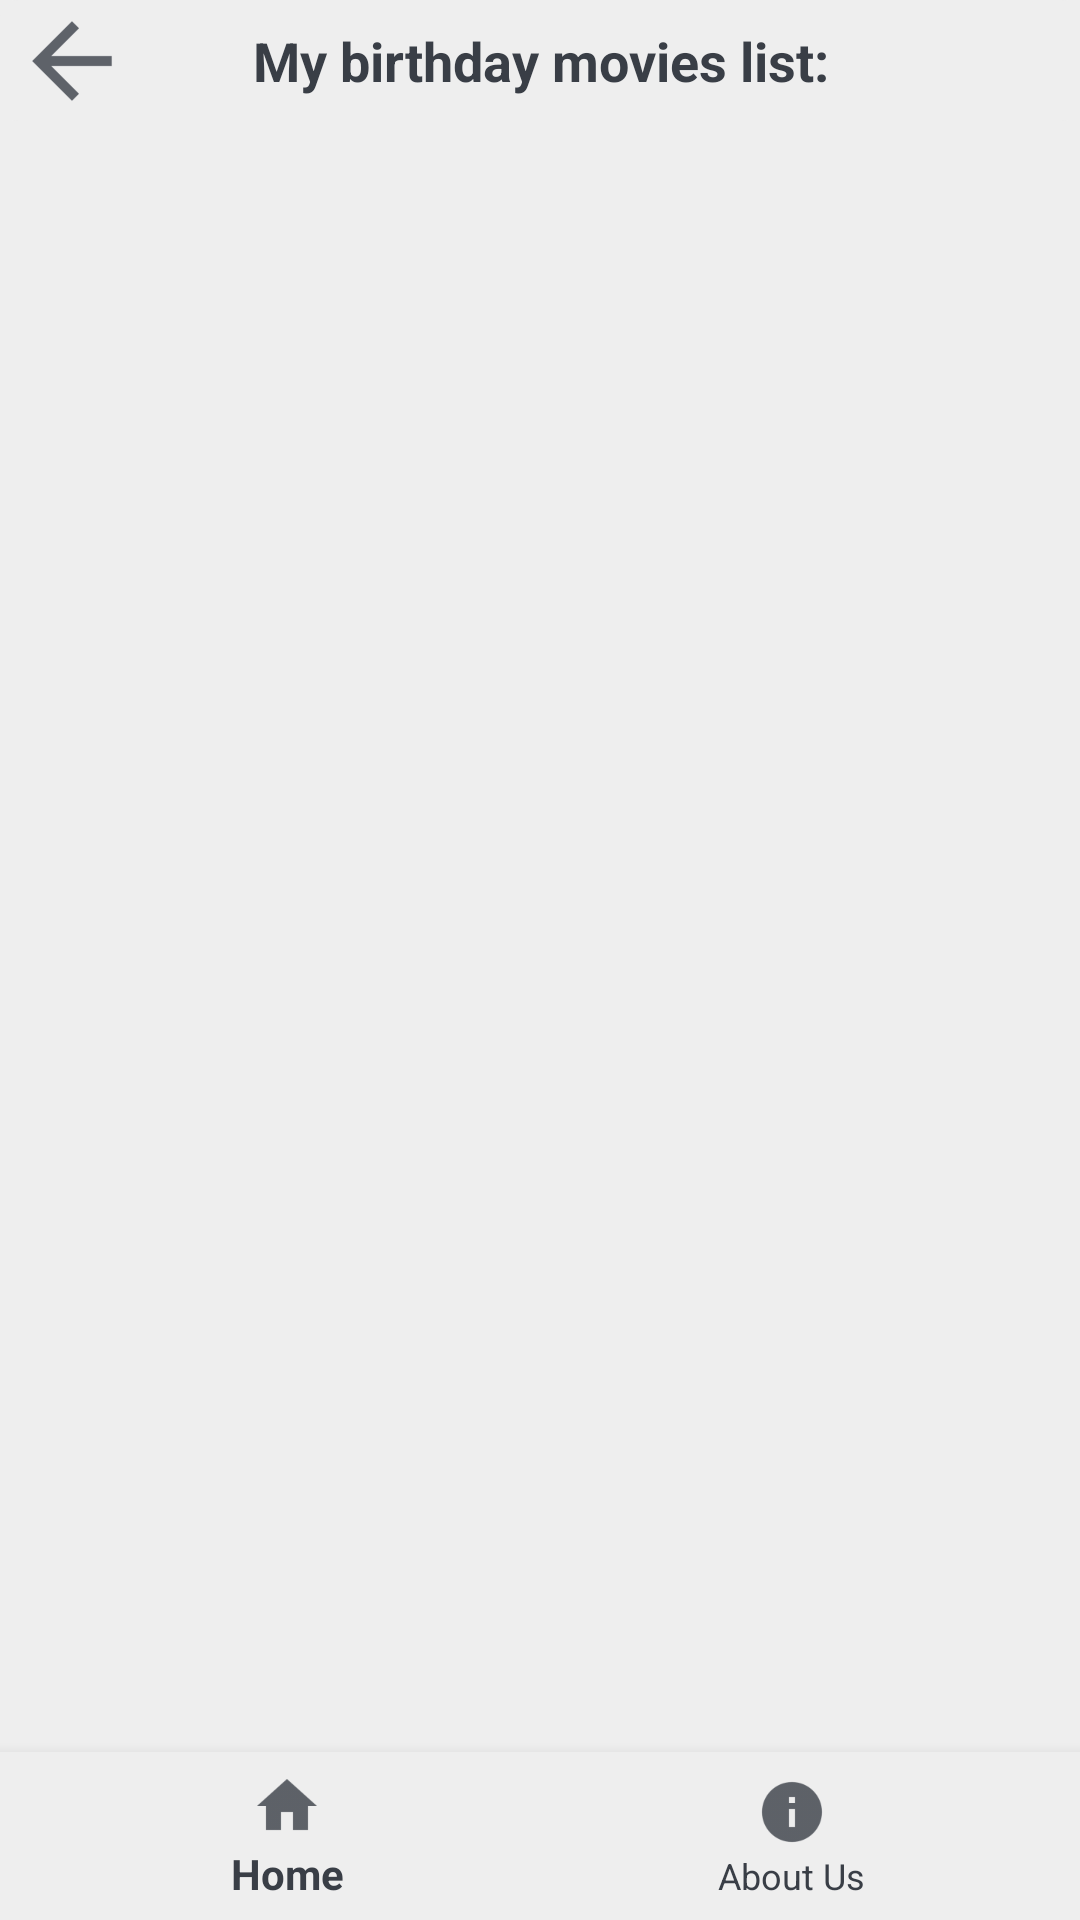

Icons on this 1080x1920 Android screen, each with the point to tap as [x,y]:
back: [72,61]
